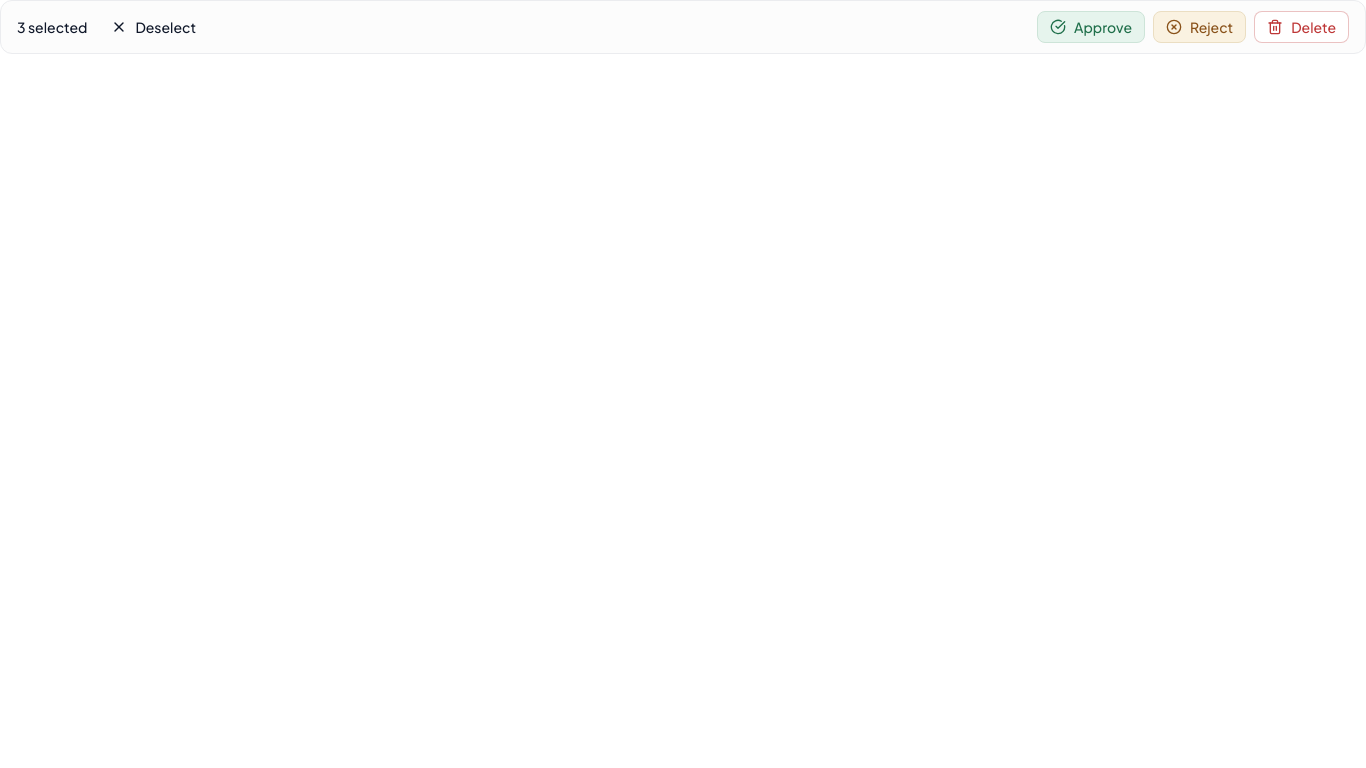
Scenario: BulkActionsBar › shows confirmation dialog when approve is clicked
The width and height of the screenshot is (1366, 768).
Click the button "Approve": (1091, 27) x1=1037 y1=11 x2=1145 y2=43
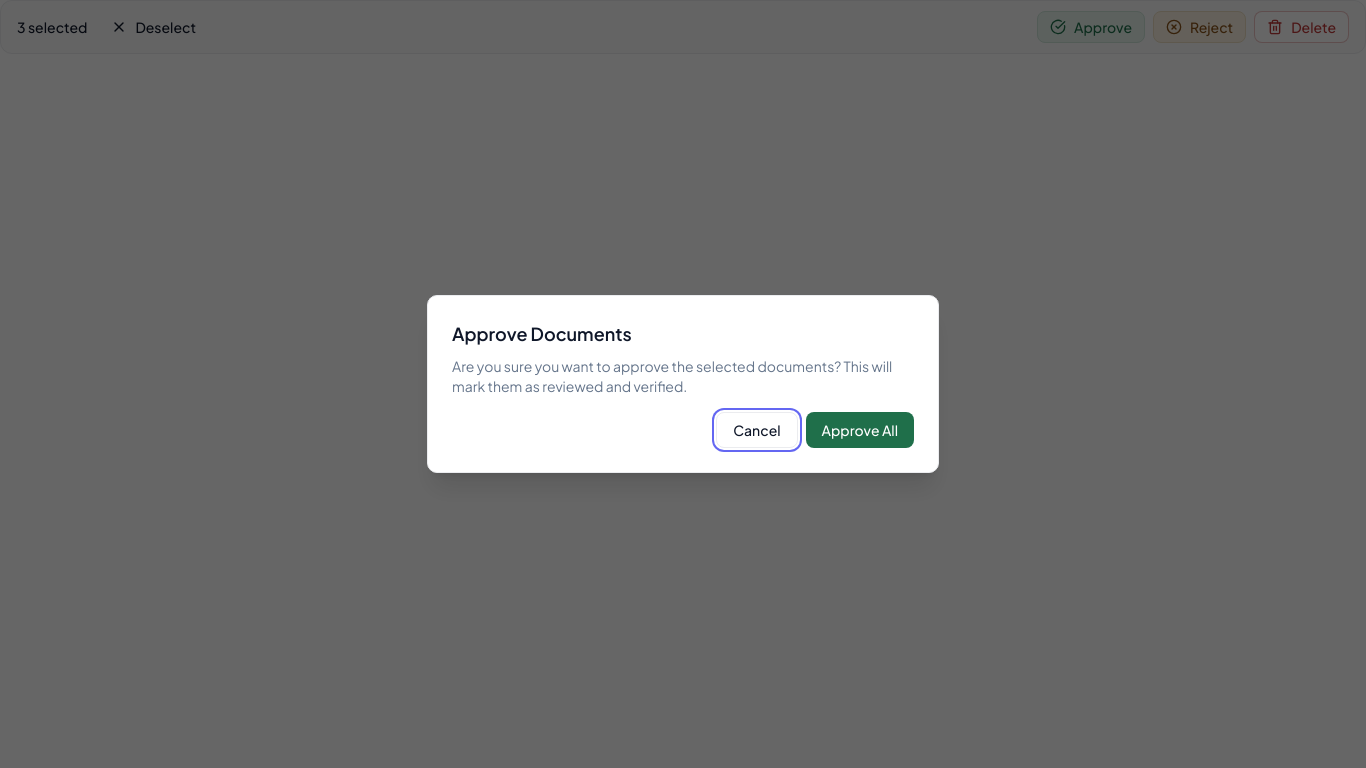
Now the heading "Approve Documents" is shown, box x1=452 y1=322 x2=632 y2=345
